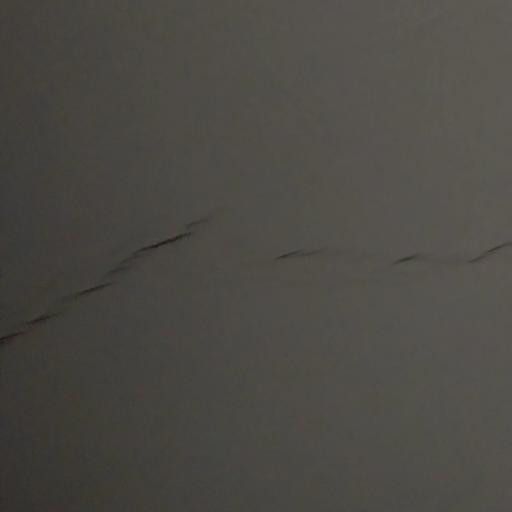stain: (1, 196, 220, 368), (265, 224, 512, 312)
